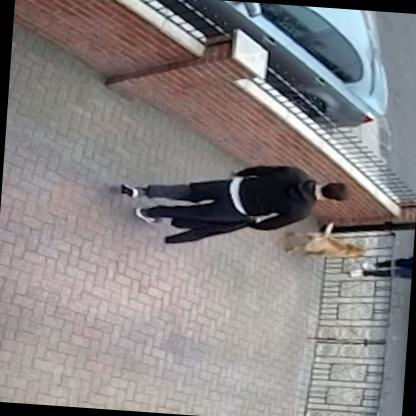Human Body: (110, 143, 359, 264)
